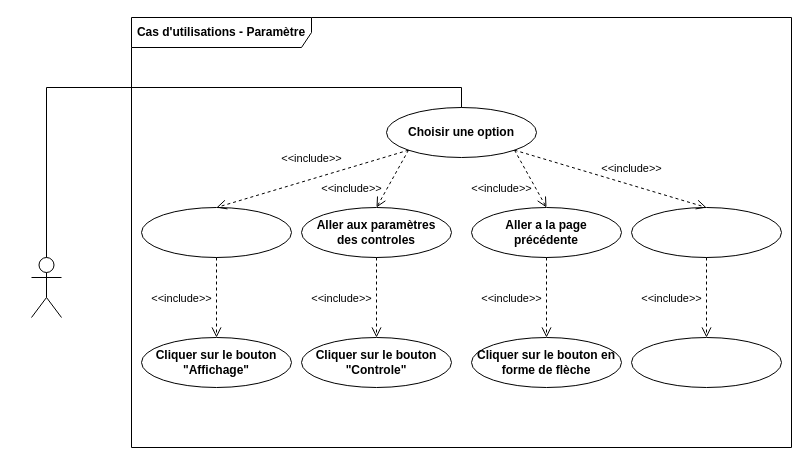
The diagram is 809 pixels wide and 465 high, and some of its shapes have lost their labels. The centre of each missing label's shape, as x and y in pixels:
Aller aux paramètres d'accéssibilité: (706,232)
Aller aux paramètres d'affichage: (216,232)
Cliquer sur le bouton "Accéssibilité": (706,362)
Utilisateur: (46,287)
